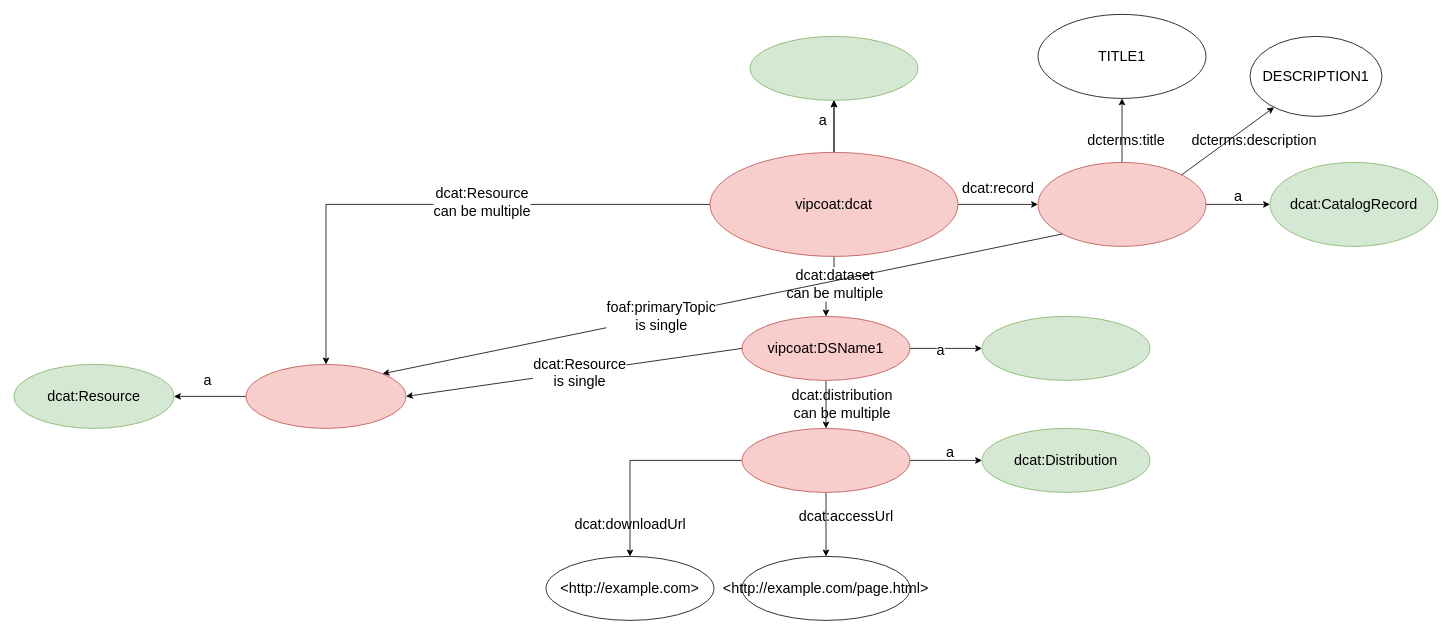
This 1452x634 diagram has some shape labels left out. Here are the shapes that lost their labels. From the top down, the centre of each, then its label:
(x=833, y=68): dcat:Catalog
(x=1121, y=204): vipcoat:RECORDName1
(x=1065, y=348): dcat:Dataset
(x=325, y=396): vipcoat:RESName1
(x=825, y=460): vipcoat:DistName1
